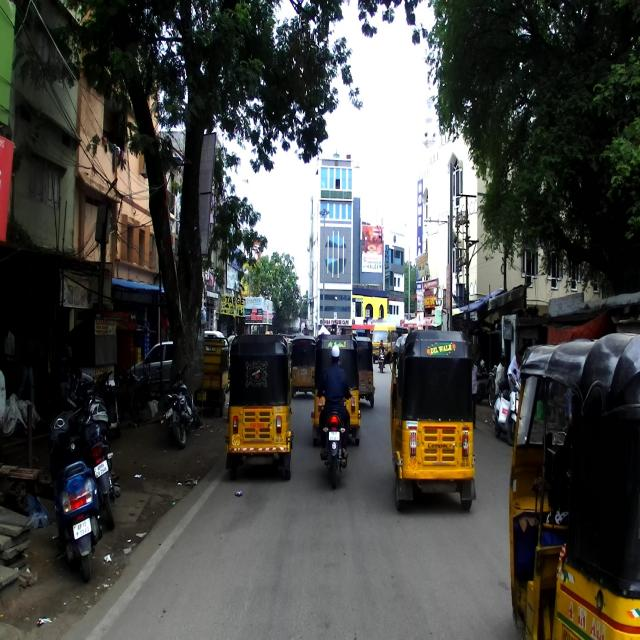autorickshaw: (508, 332, 640, 640), (386, 328, 476, 513), (225, 332, 293, 480), (309, 334, 362, 448)
motorcycle_Hero: (78, 391, 120, 528), (316, 391, 352, 490)
motorcycle_bajaj: (162, 363, 200, 450)
scooter: (42, 401, 103, 583), (85, 369, 121, 439), (492, 369, 522, 445)
